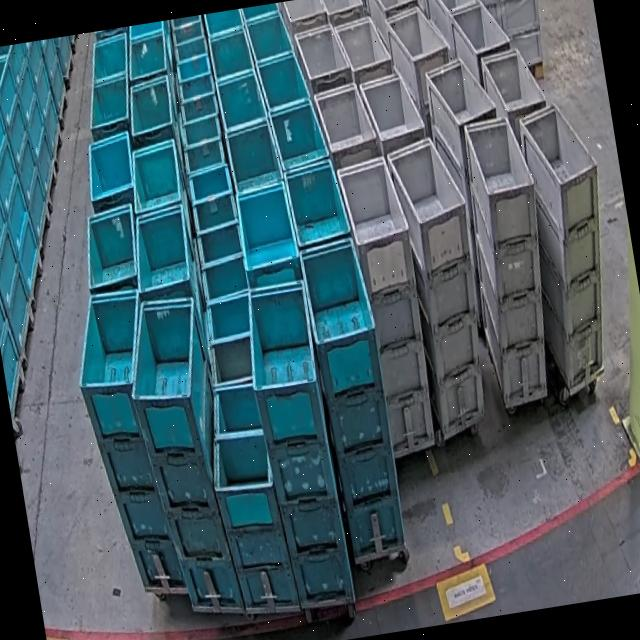4G: (508, 95, 632, 392), (383, 134, 502, 438), (451, 113, 568, 407), (335, 153, 444, 457)
B4: (117, 290, 249, 623), (236, 276, 357, 610), (65, 288, 186, 602), (296, 237, 412, 560)
B8: (198, 378, 302, 616)
